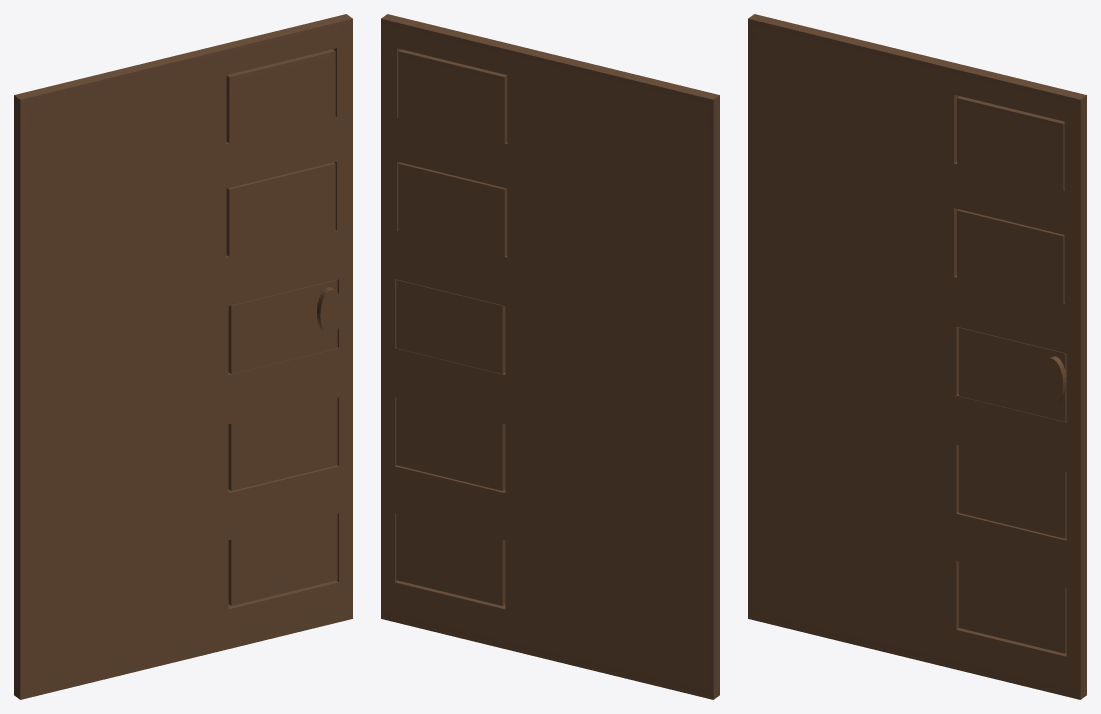
Rendered from door_Left.obj.
3 renders of one model, left to right at view 1: azimuth 30°, elevation 25°; view 2: azimuth 150°, elevation 25°; view 3: azimuth 330°, elevation 25°, orthographic.
Parts seen in each view (by area): view 1: polySurface324; view 2: polySurface324; view 3: polySurface324.
Part boxes in pixels (bbox=[...]): polySurface324: bbox=[14, 14, 352, 699]; polySurface324: bbox=[381, 14, 719, 699]; polySurface324: bbox=[748, 14, 1086, 699].
Size of the model in its own units: 7.05 by 12.15 by 0.3657.
